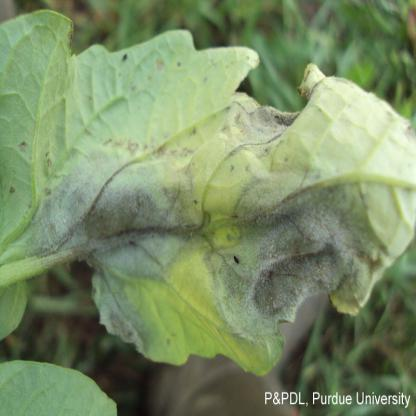Potato leaf late blight: (2, 6, 415, 377)
